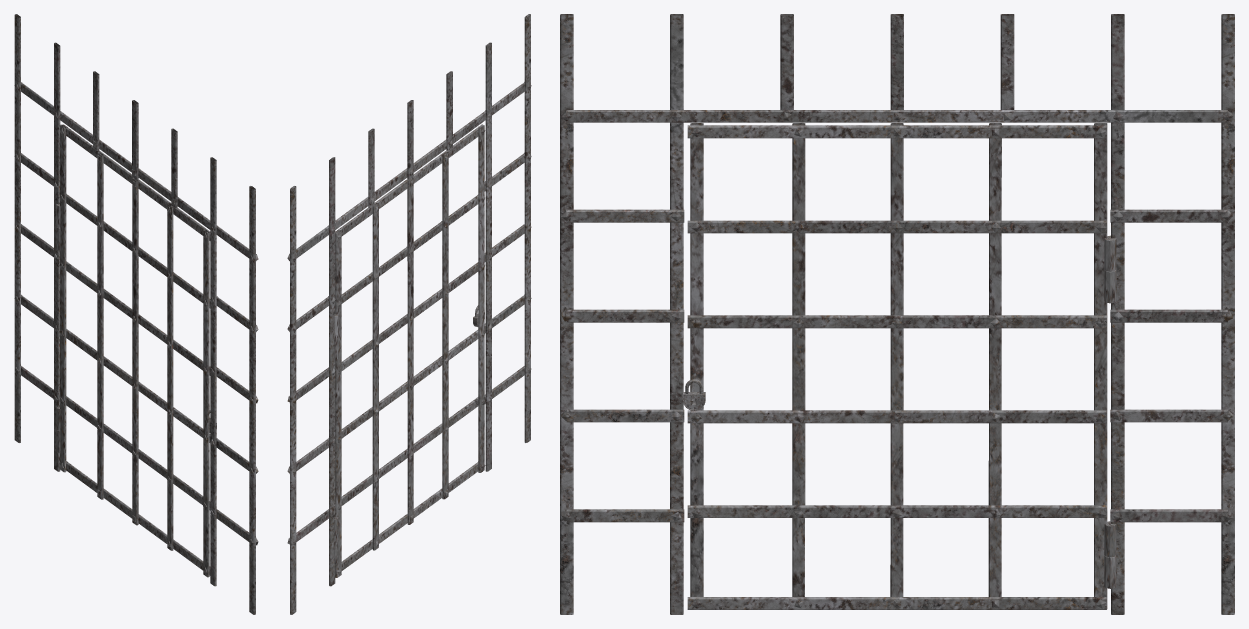
Rendered from IronBarsDoor.fbx.
3 renders of one model, left to right at view 1: azimuth 30°, elevation 25°; view 2: azimuth 150°, elevation 25°; view 3: azimuth 270°, elevation 25°, orthographic. The views are drawn at different scales.
Visible parts, largest first — view 1: Решетка-дверь, Рештка для двери, Решетка с дверью_Л, Решетка с дверью_ПР; view 2: Решетка-дверь, Рештка для двери, Решетка с дверью_ПР, Решетка с дверью_Л; view 3: Решетка-дверь, Рештка для двери, Решетка с дверью_ПР, Решетка с дверью_Л.
Part boxes in pixels (x1,y1,x2,y2): Решетка-дверь: (59,124,216,577); Рештка для двери: (21,42,256,586); Решетка с дверью_Л: (249,186,258,614); Решетка с дверью_ПР: (14,14,21,442); Решетка-дверь: (335,124,485,577); Рештка для двери: (289,42,524,586); Решетка с дверью_ПР: (287,186,296,614); Решетка с дверью_Л: (524,14,531,442); Решетка-дверь: (683,123,1107,609); Рештка для двери: (566,14,1227,614); Решетка с дверью_ПР: (1221,14,1234,614); Решетка с дверью_Л: (560,14,573,614).
Size of the model in its own units: 204 by 4.24 by 200.
